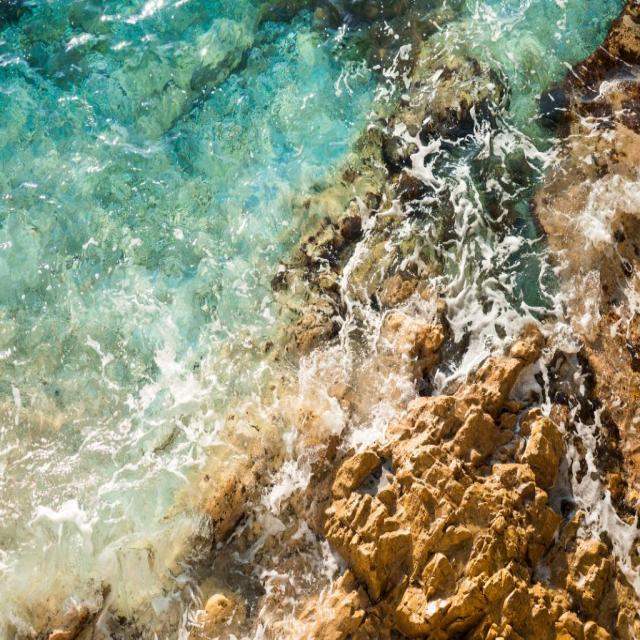reef: (282, 116, 620, 634)
